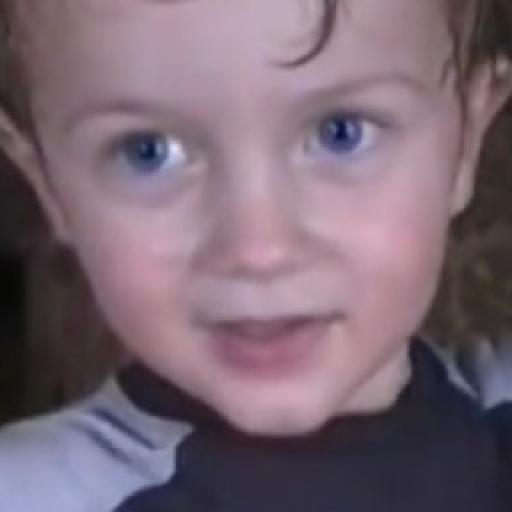Autism: (27, 2, 512, 510)
